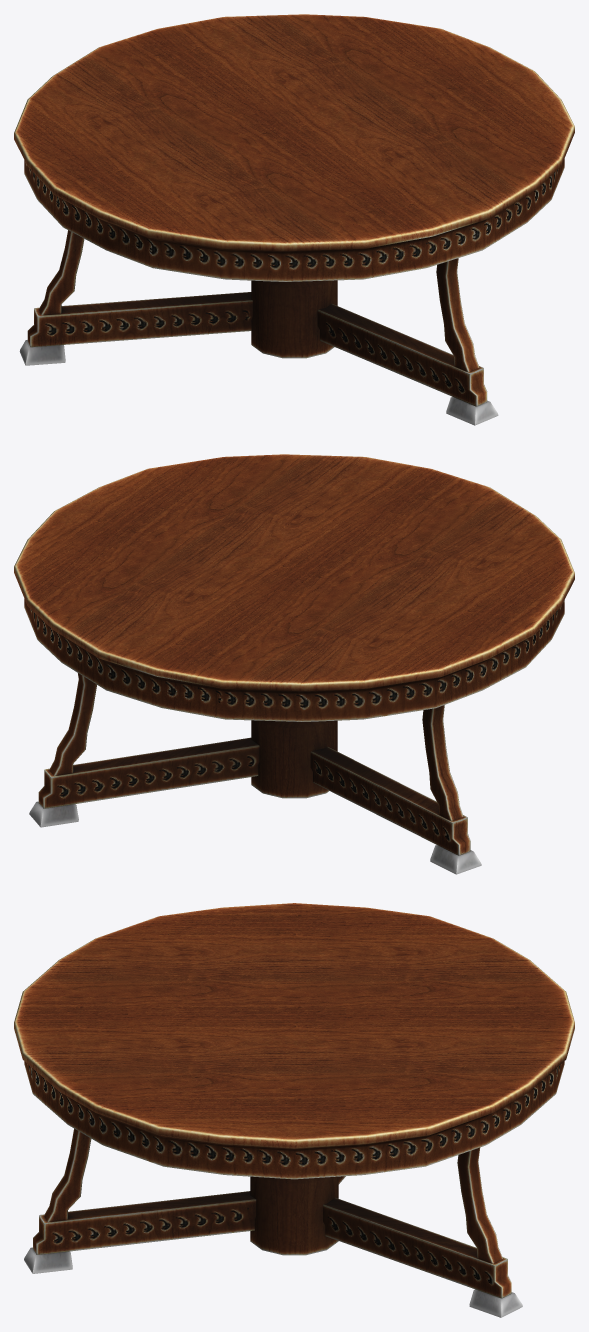
Rendered from RoundTable.fbx.
The picture shows the model from 3 angles, top to bottom: view 1: azimuth 30°, elevation 25°; view 2: azimuth 150°, elevation 25°; view 3: azimuth 270°, elevation 25°; orthographic projection.
Parts seen in each view (by area): view 1: RoundTable; view 2: RoundTable; view 3: RoundTable.
Boxes of the visible parts, bbox=[...] form: RoundTable: bbox=[14, 14, 574, 425]; RoundTable: bbox=[14, 454, 574, 874]; RoundTable: bbox=[14, 903, 574, 1317].
Bounding box in the file's own units: 196 × 82.27 × 194.
